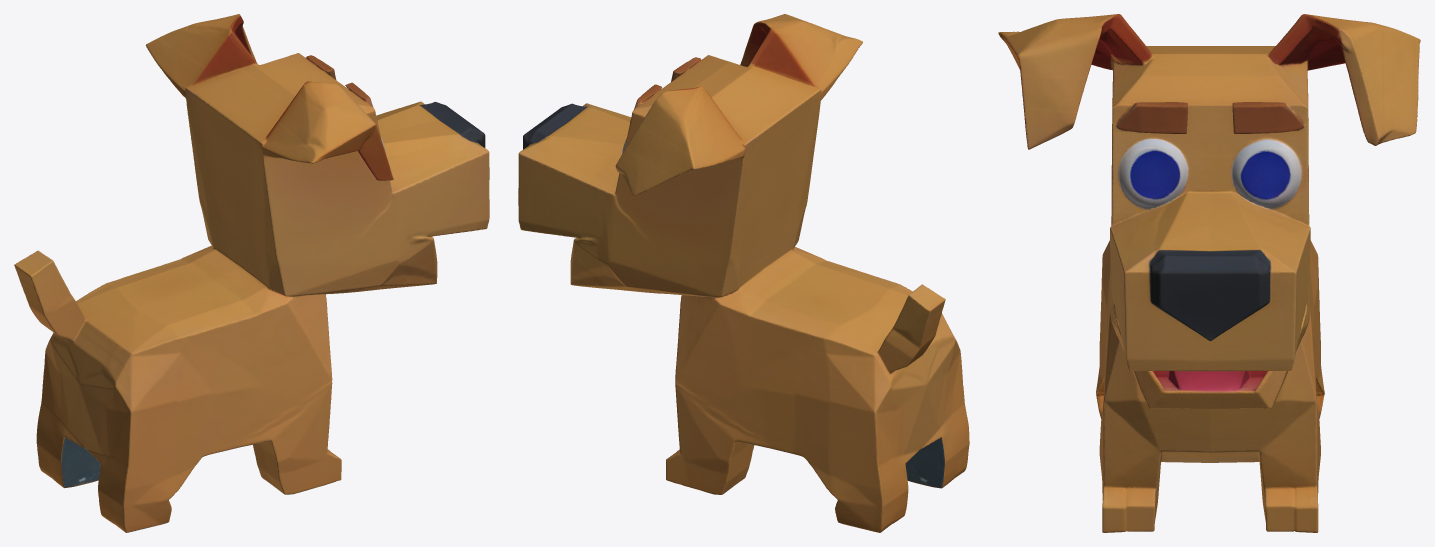
The model's file is puppy.glb.
3 renders of one model, left to right at view 1: azimuth 30°, elevation 25°; view 2: azimuth 150°, elevation 25°; view 3: azimuth 270°, elevation 25°, orthographic. The views are drawn at different scales.
Parts seen in each view (by area): view 1: tripo_node_48b03ef4-16bb-45f4-909e-003386168eed; view 2: tripo_node_48b03ef4-16bb-45f4-909e-003386168eed; view 3: tripo_node_48b03ef4-16bb-45f4-909e-003386168eed.
Boxes of the visible parts, bbox=[...] form: tripo_node_48b03ef4-16bb-45f4-909e-003386168eed: bbox=[14, 14, 489, 532]; tripo_node_48b03ef4-16bb-45f4-909e-003386168eed: bbox=[518, 14, 969, 532]; tripo_node_48b03ef4-16bb-45f4-909e-003386168eed: bbox=[998, 14, 1420, 532].
Size of the model in its own units: 1 by 0.9175 by 0.6936.
1 material, 1 textured.
